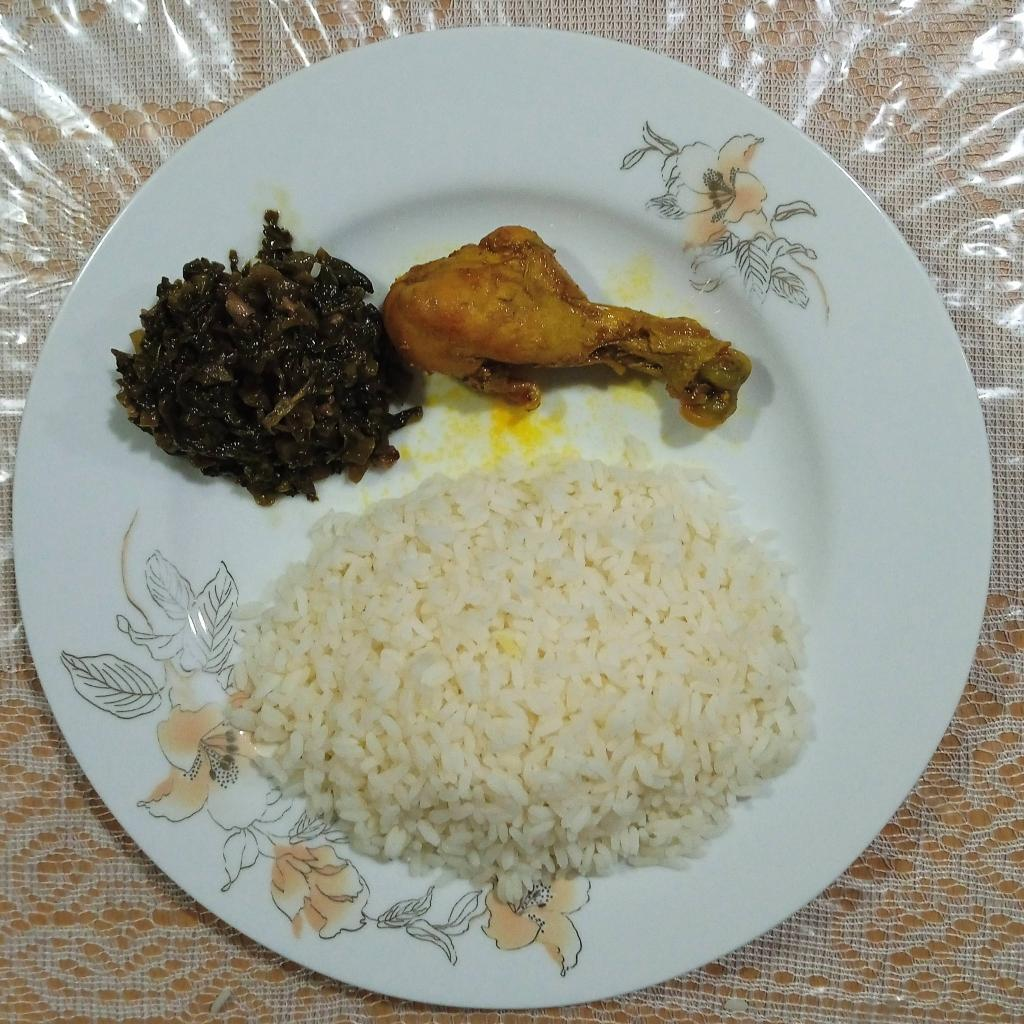chicken: (388, 225, 750, 434)
rice: (228, 458, 811, 906)
shak: (117, 211, 421, 502)
